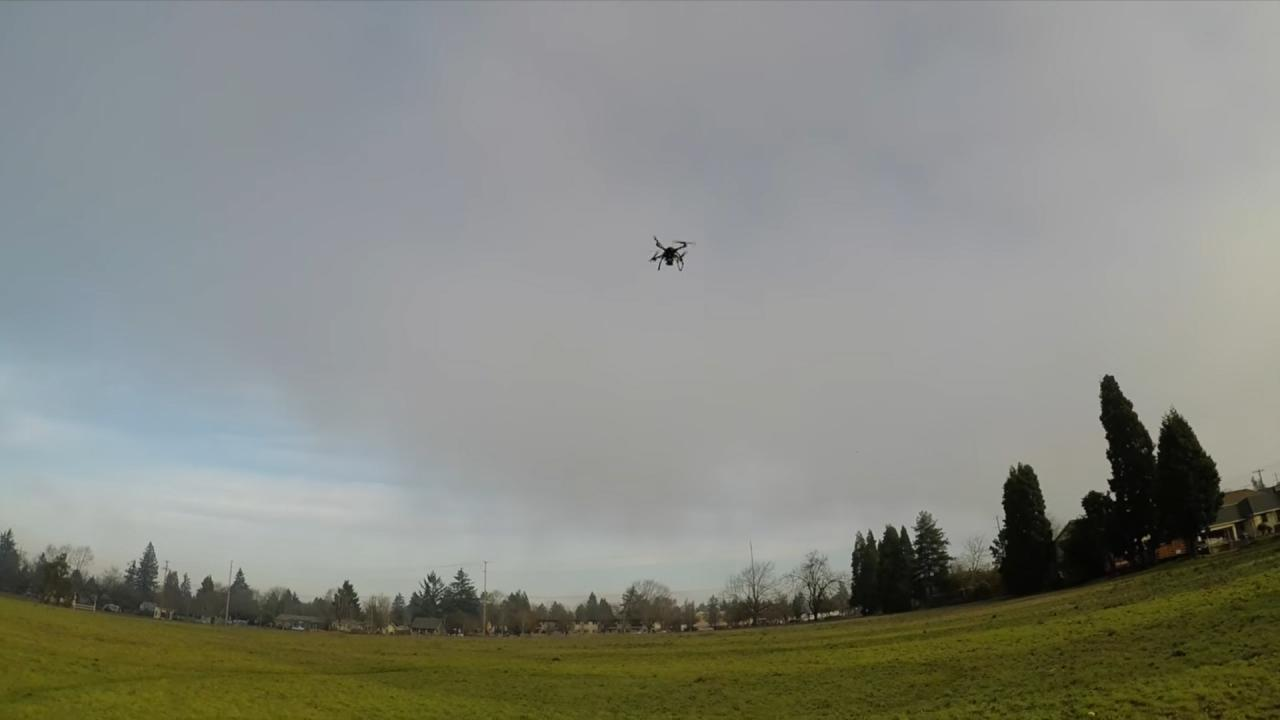Drone: (644, 231, 699, 281)
